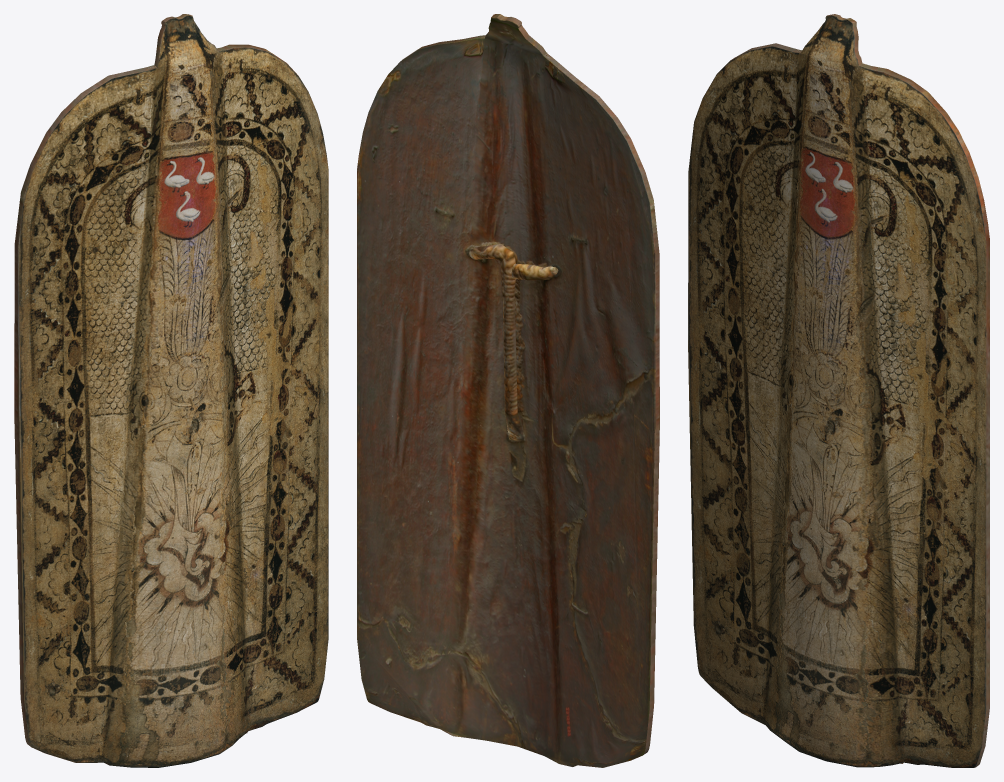
The model's file is pawez_wiezy.glb.
3 views of the same model, side by side, from view 1: azimuth 30°, elevation 25°; view 2: azimuth 150°, elevation 25°; view 3: azimuth 330°, elevation 25° (orthographic).
Parts seen in each view (by area): view 1: Plane_Material.001_0; view 2: Plane_Material.001_0, Circle_Material.001_0; view 3: Plane_Material.001_0.
Boxes of the visible parts, left/top/right/bottom form: Plane_Material.001_0: left=14, top=14, right=328, bottom=767; Plane_Material.001_0: left=357, top=14, right=659, bottom=767; Circle_Material.001_0: left=469, top=244, right=558, bottom=440; Plane_Material.001_0: left=688, top=14, right=989, bottom=767.
Bounding box in the file's own units: 0.6284 × 1.45 × 0.079.
1 material, 1 textured.
